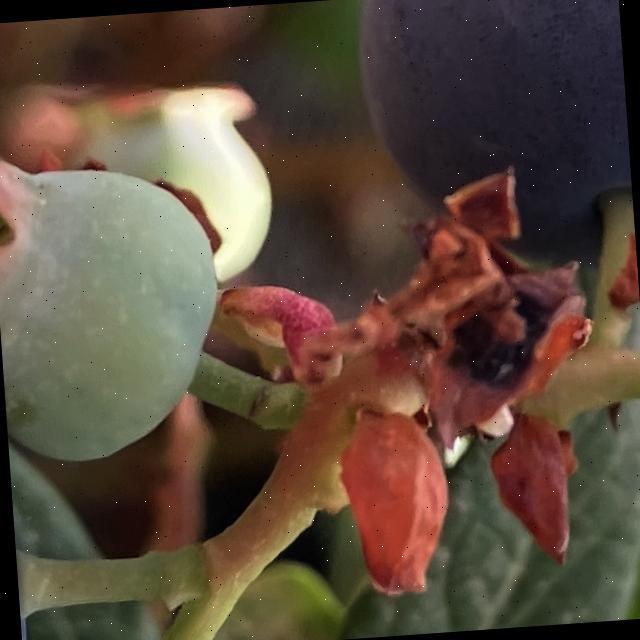Blueberries: (354, 0, 638, 300)
